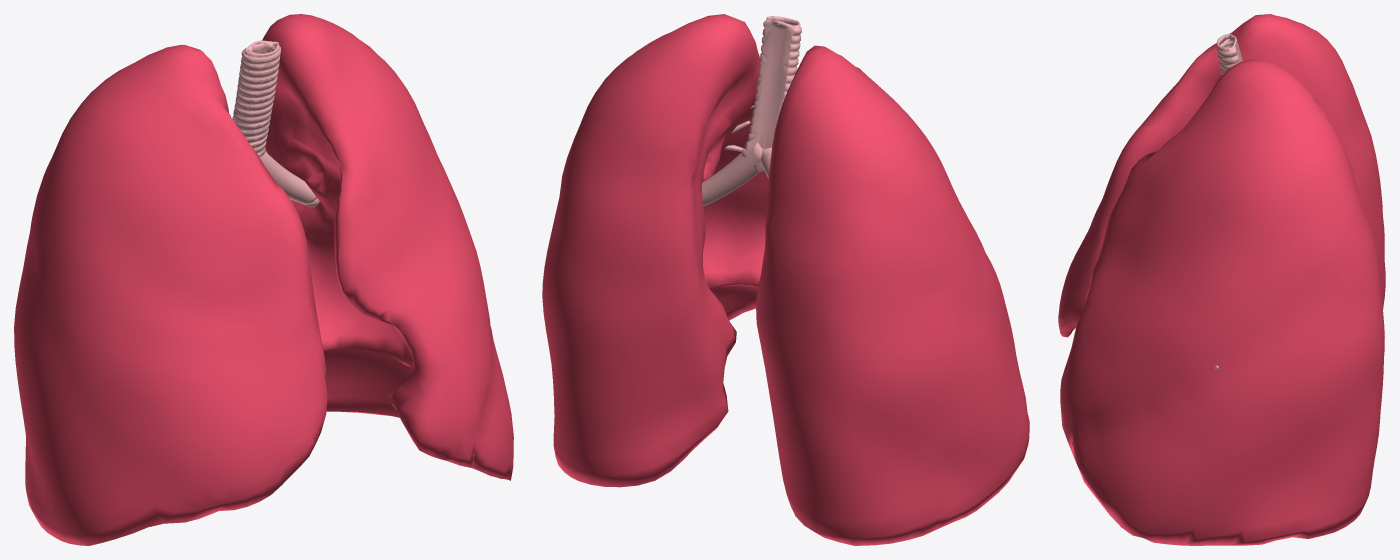
The model's file is Lungs_New.glb.
The picture shows the model from 3 angles, left to right: view 1: azimuth 30°, elevation 25°; view 2: azimuth 150°, elevation 25°; view 3: azimuth 270°, elevation 25°; orthographic projection. The views are drawn at different scales.
Visible parts, largest first — view 1: Pleura, Veins; view 2: Pleura, Veins; view 3: Pleura, Veins.
Part boxes in pixels (box(x1,y1,x2,y2)): Pleura: box(14, 14, 513, 545); Veins: box(232, 40, 319, 207); Pleura: box(542, 14, 1029, 545); Veins: box(702, 16, 801, 206); Pleura: box(1058, 14, 1385, 545); Veins: box(1214, 33, 1242, 369).
Bounding box in the file's own units: 0.2863 × 0.2871 × 0.2044.
